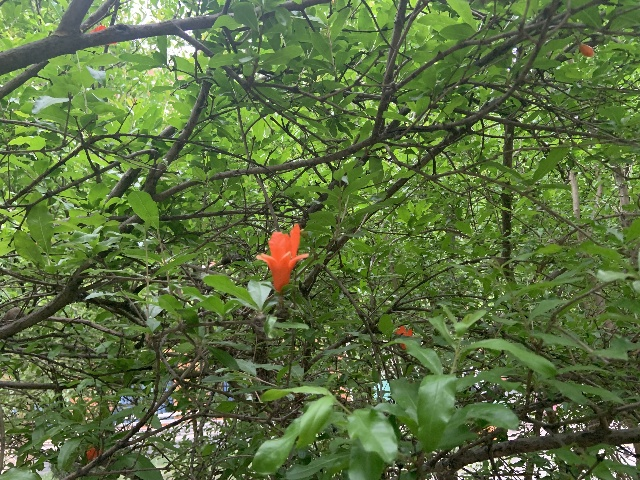bud: (578, 43, 594, 57)
flower: (256, 222, 309, 291), (88, 25, 116, 47), (394, 325, 414, 349), (86, 445, 101, 460)
